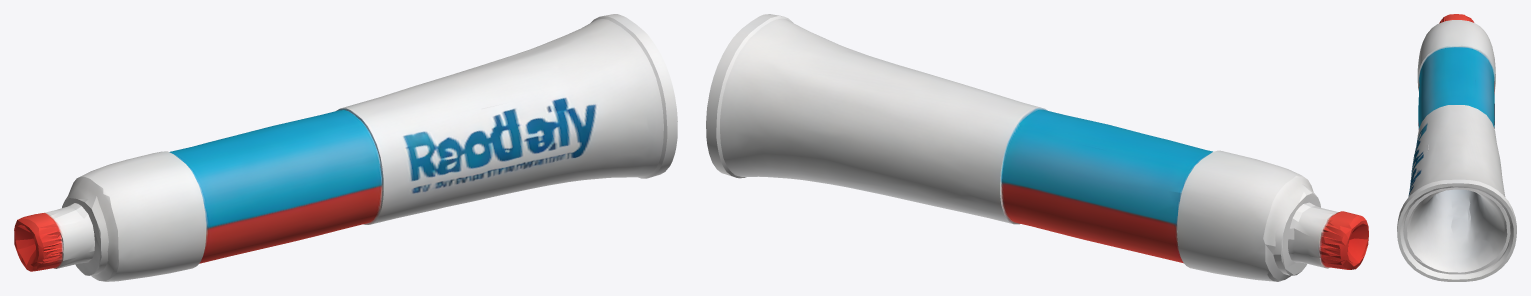
File: toothpaste.glb
The picture shows the model from 3 angles, left to right: view 1: azimuth 30°, elevation 25°; view 2: azimuth 150°, elevation 25°; view 3: azimuth 270°, elevation 25°; orthographic projection. The views are drawn at different scales.
Parts seen in each view (by area): view 1: model; view 2: model; view 3: model.
Part boxes in pixels (x1,y1,x2,y2): model: [14, 14, 677, 281]; model: [706, 14, 1368, 281]; model: [1397, 14, 1516, 281].
Bounding box in the file's own units: 1.9 × 0.429 × 0.4695.
1 material, 1 textured.
